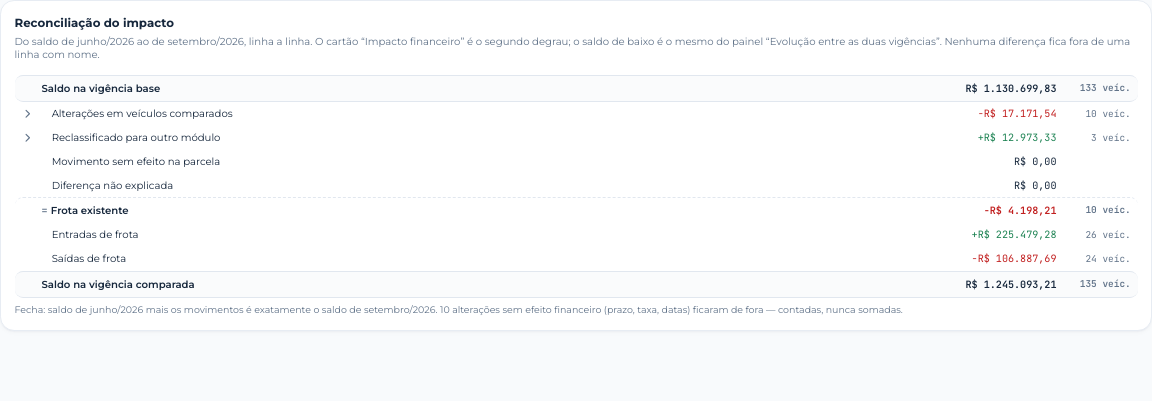
Test: a reconciliação do impacto › abre um degrau até a placa, a rubrica e as duas vigências
Click the button "Reclassificado para outro módulo +R$ 12.973,33 3 veíc." at (136, 138), box [14, 126, 1138, 150]
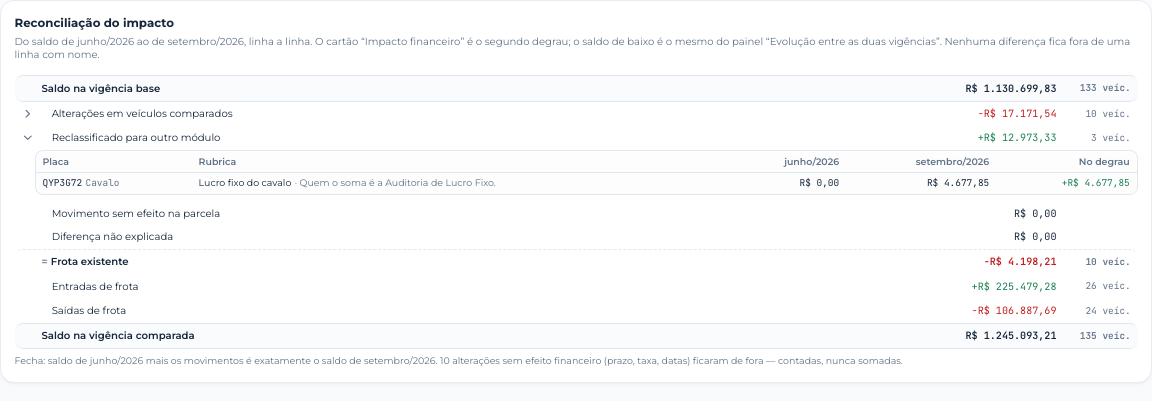
Now the text "QYP3G72" is shown, box [42, 176, 82, 189]
Now the text "Lucro fixo do cavalo" is shown, box [199, 177, 291, 188]
Now the text "R$ 4.677,85" is shown, box [846, 173, 996, 194]
